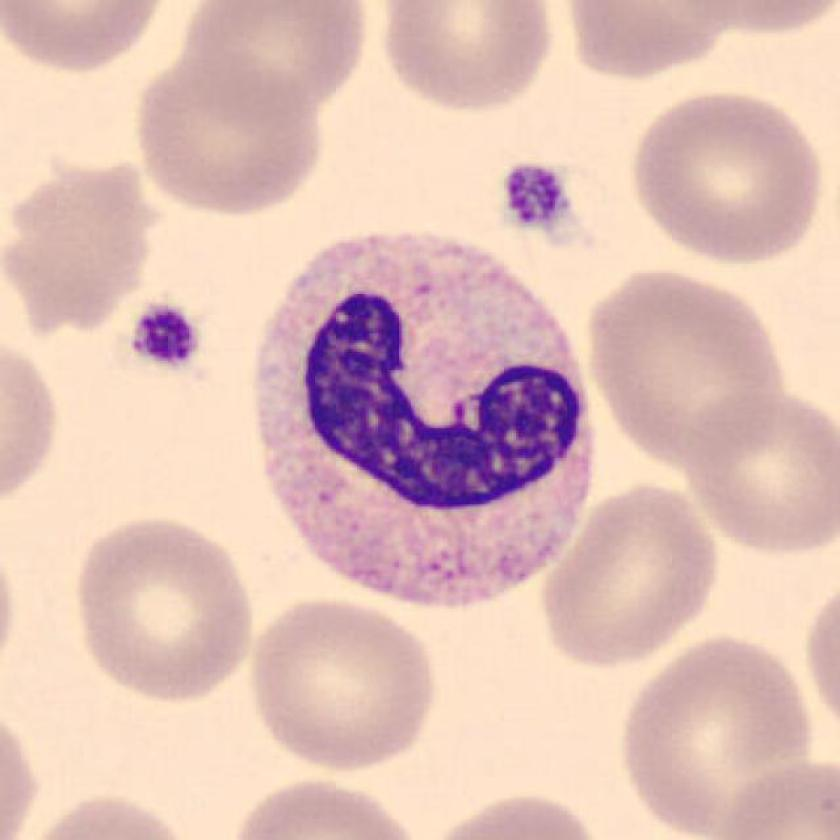neutrophil: (256, 235, 596, 609)
